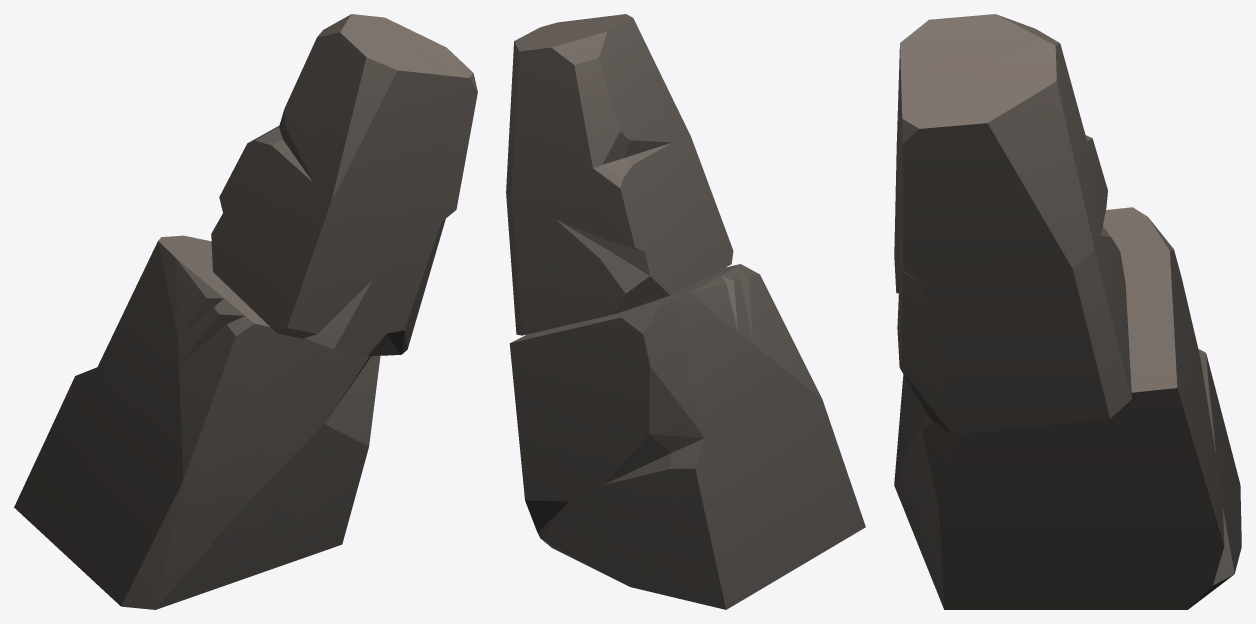
File: Rock_Sharp_2B.fbx
The picture shows the model from 3 angles, left to right: view 1: azimuth 30°, elevation 25°; view 2: azimuth 150°, elevation 25°; view 3: azimuth 270°, elevation 25°; orthographic projection. The views are drawn at different scales.
Parts seen in each view (by area): view 1: Rock_Sharp_2B; view 2: Rock_Sharp_2B; view 3: Rock_Sharp_2B.
Boxes of the visible parts, <box> form: Rock_Sharp_2B: <box>14,14,477,609</box>; Rock_Sharp_2B: <box>506,14,865,609</box>; Rock_Sharp_2B: <box>894,14,1241,609</box>.
Bounding box in the file's own units: 4.26 × 5.7 × 2.96.
